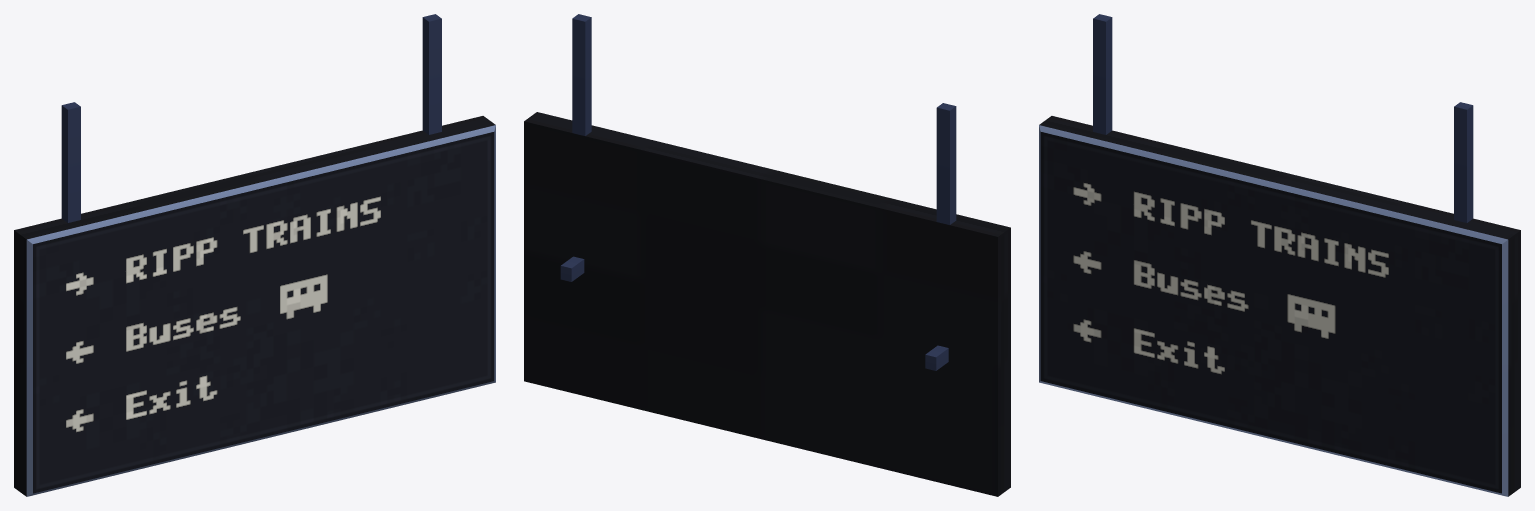
Rendered from SM_Sign_Directions.fbx.
3 renders of one model, left to right at view 1: azimuth 30°, elevation 25°; view 2: azimuth 150°, elevation 25°; view 3: azimuth 330°, elevation 25°, orthographic.
Parts seen in each view (by area): view 1: SM_Sign_Directions; view 2: SM_Sign_Directions; view 3: SM_Sign_Directions.
Part boxes in pixels (left/top/right/bottom): SM_Sign_Directions: left=14, top=14, right=495, bottom=496; SM_Sign_Directions: left=524, top=14, right=1010, bottom=496; SM_Sign_Directions: left=1039, top=14, right=1520, bottom=496.
Size of the model in its own units: 2.17 by 1.64 by 0.22.
2 materials, 2 textured.
